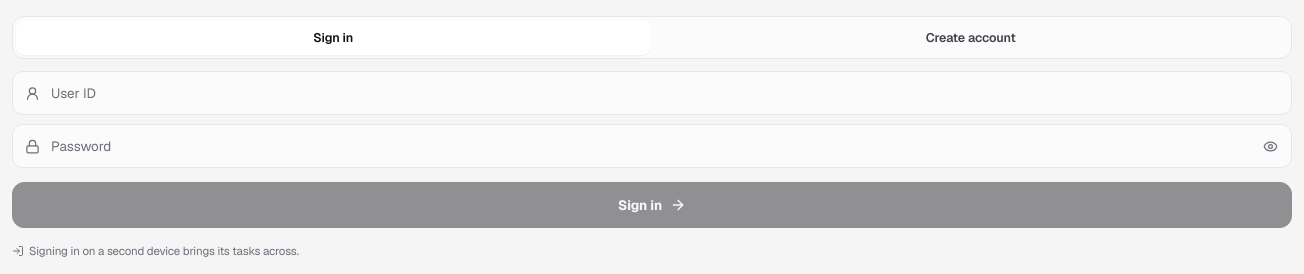
Test: AuthForm › keeps the action disabled until both fields have something in them
The width and height of the screenshot is (1304, 274).
Expected: the button "Sign in" is disabled, [12,182,1292,228]
Type "lakshit" into the field labelled "User ID" at (652, 93), box [12,71,1292,115]
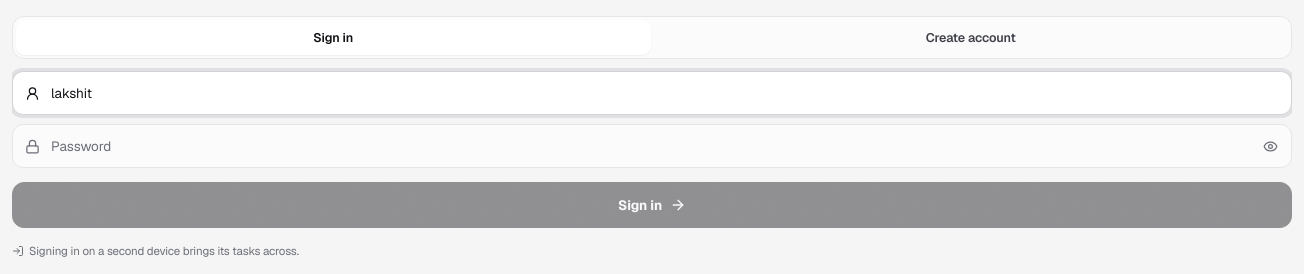
Expected: the button "Sign in" is disabled, [12,182,1292,228]
Type "open sesame 72" into the password field labelled "Password" at (652, 146), box [12,124,1292,168]
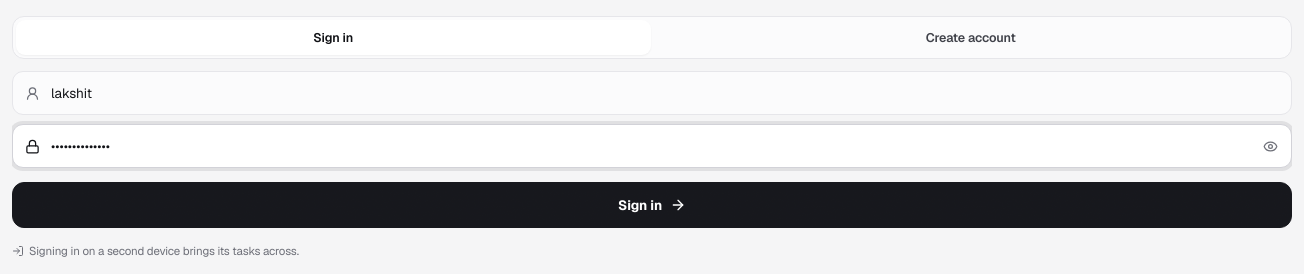
Result: the button "Sign in" is enabled at [12,182,1292,228]
